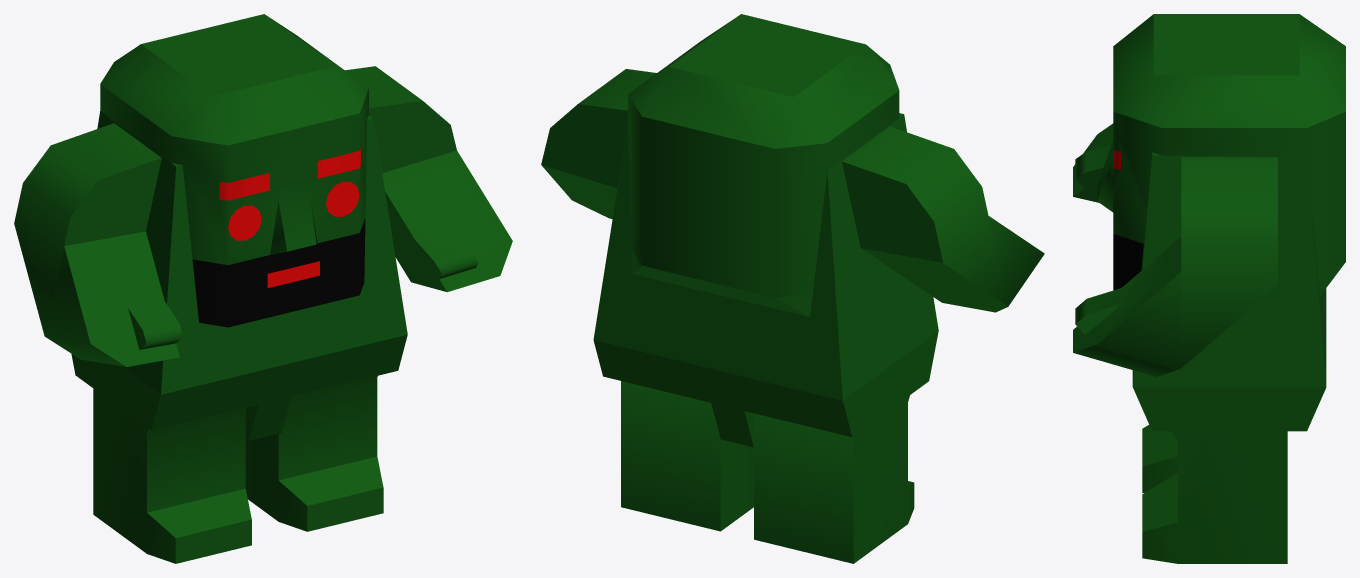
File: Enemy0-1.fbx
3 views of the same model, side by side, from view 1: azimuth 30°, elevation 25°; view 2: azimuth 150°, elevation 25°; view 3: azimuth 270°, elevation 25° (orthographic).
Parts seen in each view (by area): view 1: mergedBlocks; view 2: mergedBlocks; view 3: mergedBlocks.
Part boxes in pixels (x1=…): mergedBlocks: x1=14, y1=14, x2=512, y2=563; mergedBlocks: x1=541, y1=14, x2=1044, y2=563; mergedBlocks: x1=1073, y1=14, x2=1345, y2=563.
Size of the model in its own units: 5.25 by 5.26 by 2.82.
